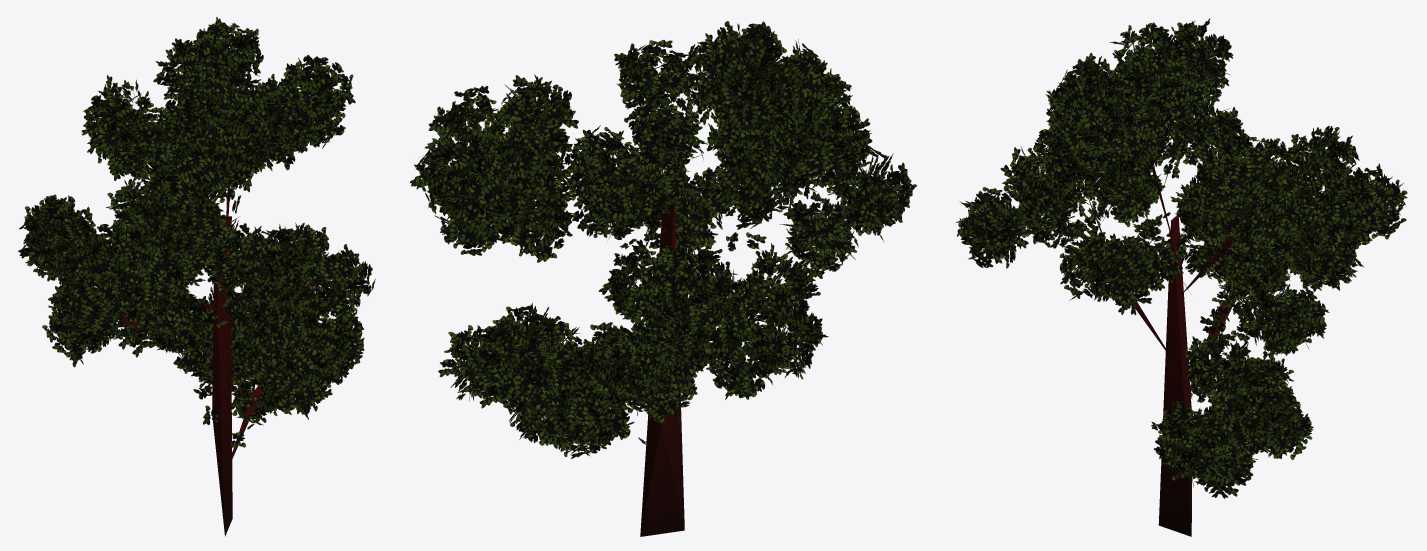
The model's file is evergreen_broad_v01_LOD1.glb.
3 views of the same model, side by side, from view 1: azimuth 30°, elevation 25°; view 2: azimuth 150°, elevation 25°; view 3: azimuth 270°, elevation 25° (orthographic). The views are drawn at different scales.
Visible parts, largest first — view 1: evergreen_broad_v01_LOD1; view 2: evergreen_broad_v01_LOD1; view 3: evergreen_broad_v01_LOD1.
Boxes of the visible parts, x1,y1,x2,y2 form: evergreen_broad_v01_LOD1: (18, 17, 375, 536); evergreen_broad_v01_LOD1: (409, 21, 916, 536); evergreen_broad_v01_LOD1: (956, 18, 1407, 536).
Size of the model in its own units: 14.51 by 19.24 by 17.26.
Materials: 2 (2 with a texture image).
